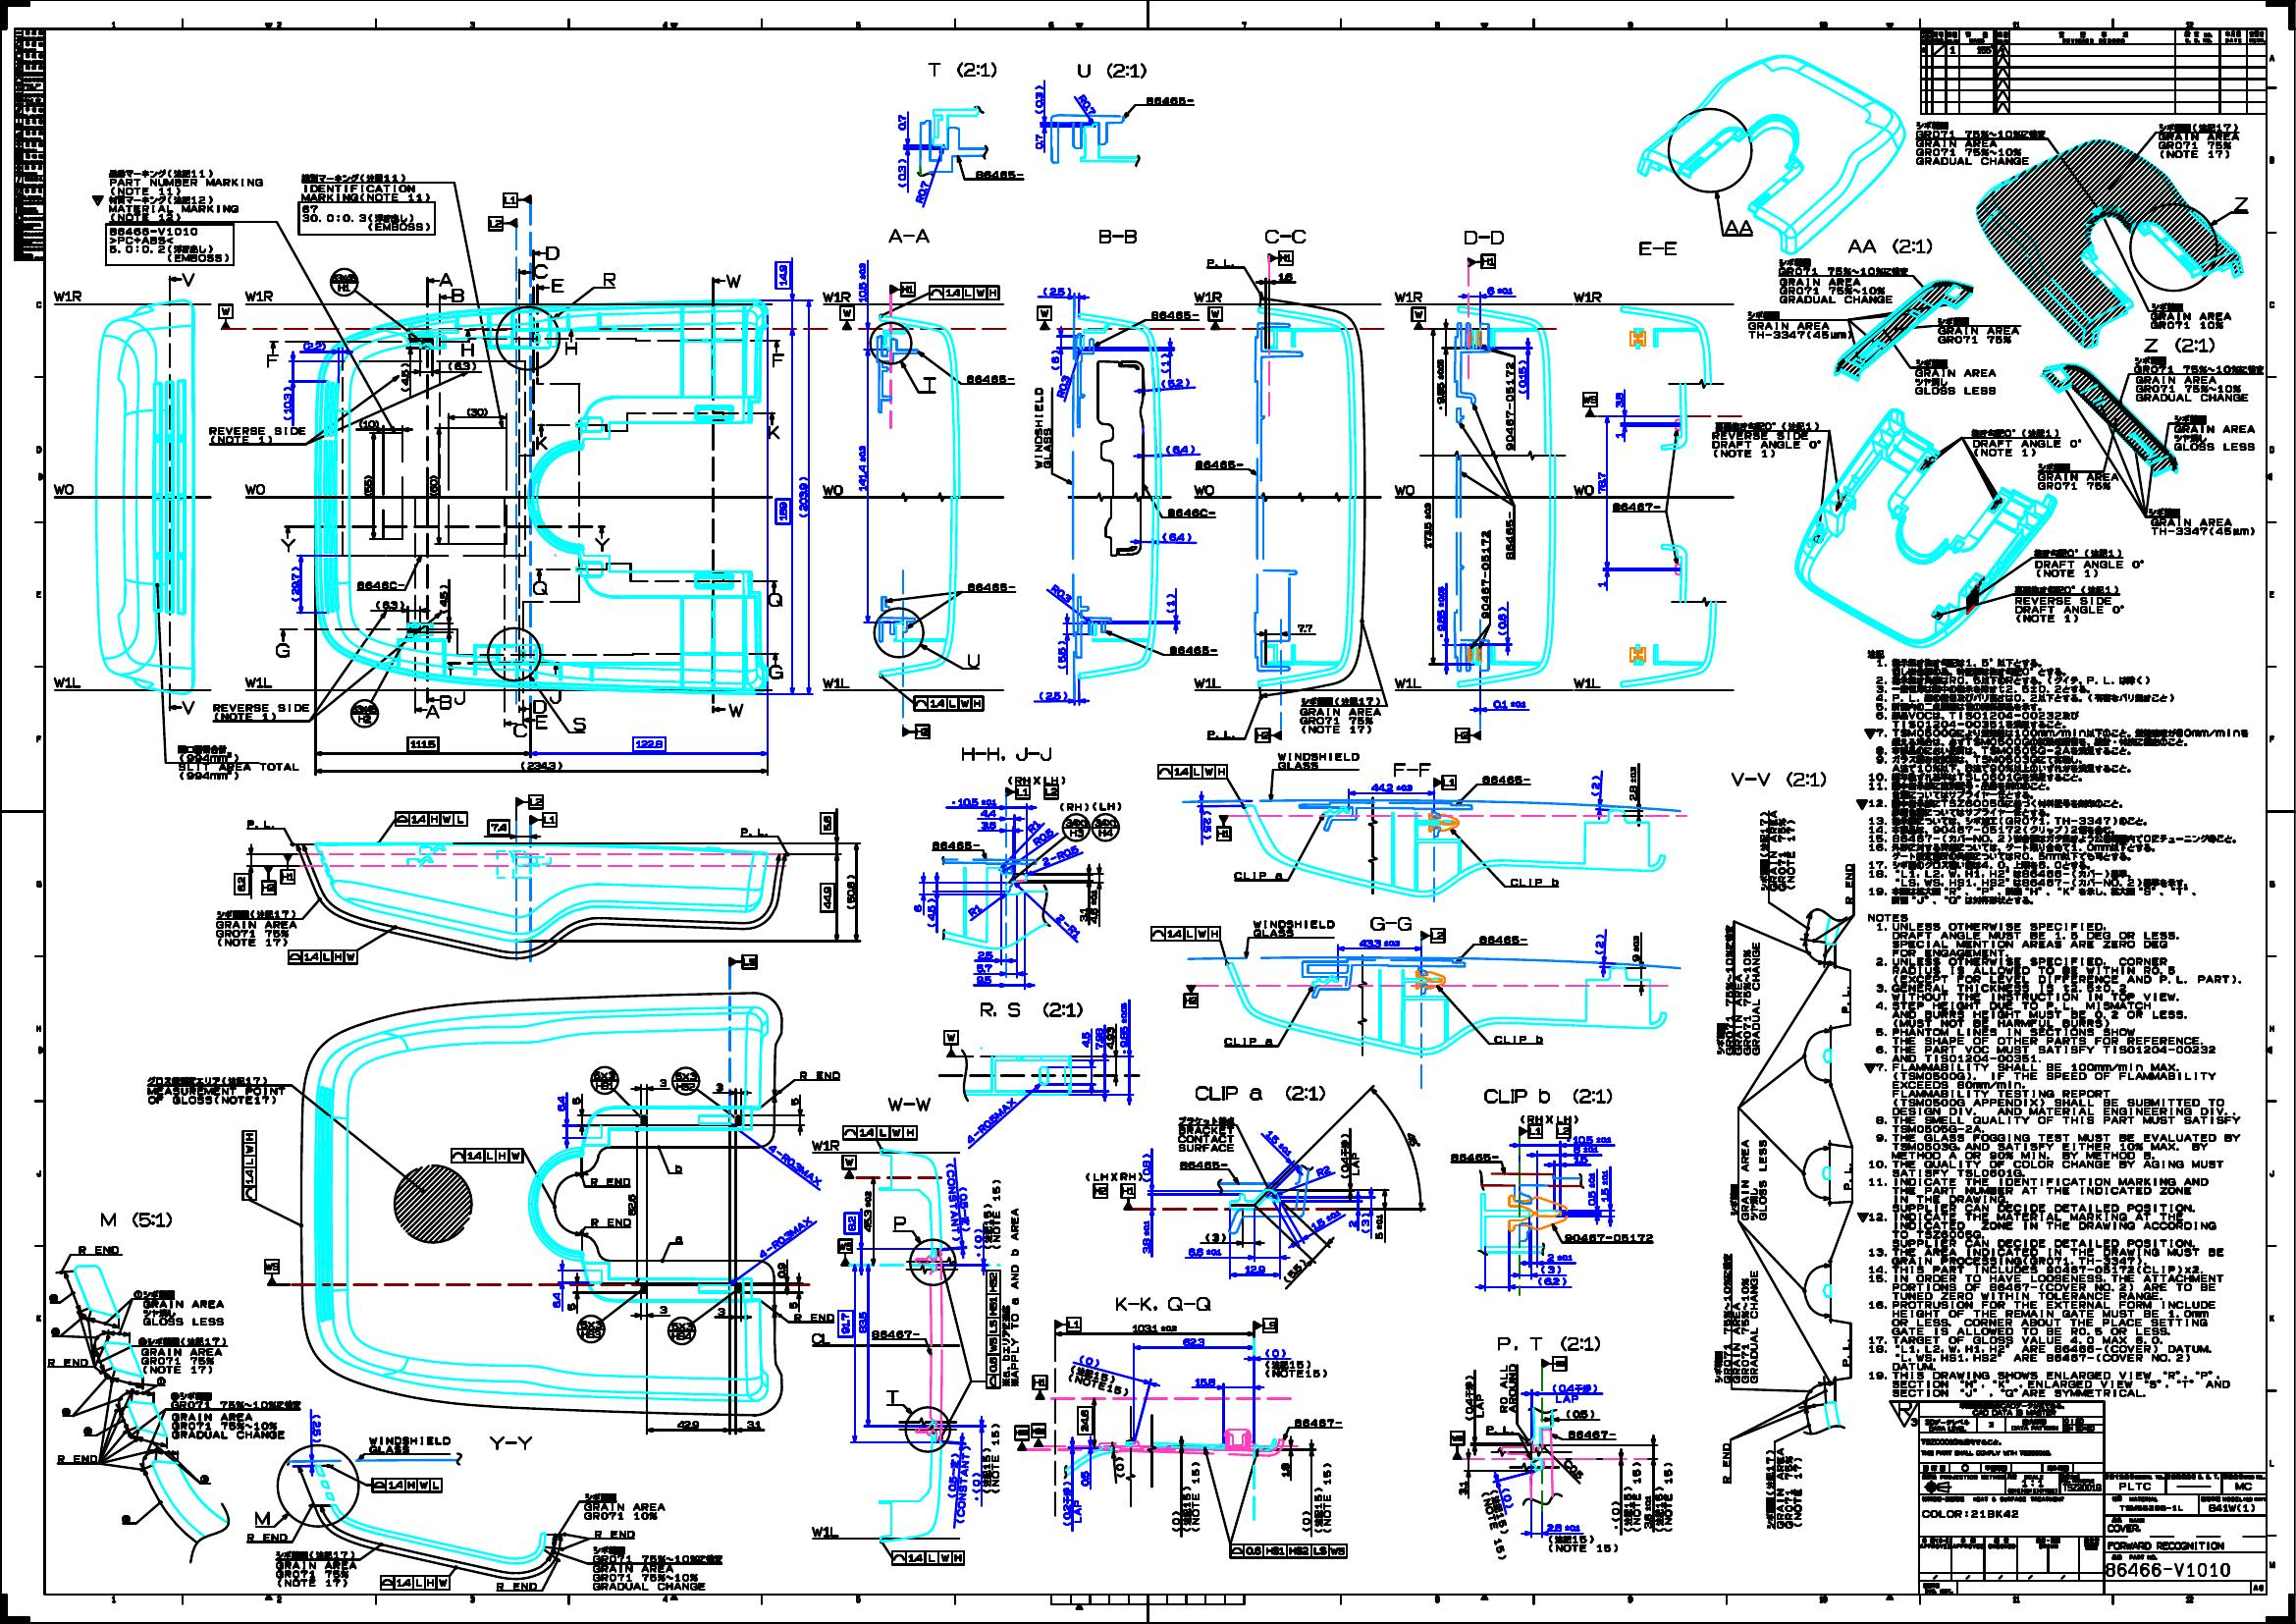anntotation_text: (1855, 909, 2243, 1401), (1853, 647, 2252, 907), (169, 1388, 304, 1441), (1715, 919, 1764, 1058), (2133, 355, 2264, 406), (1711, 1250, 1760, 1385), (1776, 258, 1910, 306), (590, 1545, 724, 1592), (1915, 120, 2047, 165), (104, 223, 235, 265), (176, 743, 299, 782), (2013, 584, 2126, 626), (299, 202, 434, 236), (107, 167, 265, 195), (144, 1074, 285, 1106), (1709, 420, 1823, 459), (88, 193, 242, 221), (297, 172, 430, 202), (135, 1336, 228, 1376), (134, 1287, 225, 1327), (1971, 425, 2083, 457), (1729, 1137, 1771, 1222), (1764, 1445, 1804, 1531), (2157, 121, 2247, 160), (1001, 1207, 1021, 1387), (1748, 308, 1852, 341), (2173, 413, 2256, 453), (213, 907, 295, 947), (2032, 548, 2143, 578), (1915, 357, 1996, 397), (1758, 807, 1797, 891), (2147, 508, 2256, 538), (274, 1550, 357, 1589), (1300, 696, 1381, 735), (1481, 1084, 1614, 1107), (1936, 315, 2020, 346), (581, 1489, 666, 1520), (1193, 1084, 1326, 1104), (2034, 460, 2119, 490), (975, 998, 1082, 1021), (1730, 768, 1829, 793), (2148, 302, 2233, 330), (1084, 1171, 1142, 1211), (1175, 1114, 1235, 1153), (1493, 1334, 1602, 1353), (947, 1445, 971, 1526), (206, 425, 307, 445), (947, 1162, 971, 1241), (209, 701, 309, 721), (957, 743, 1056, 763), (984, 1269, 1000, 1388), (1031, 387, 1052, 471), (1275, 749, 1360, 770), (1112, 1294, 1212, 1311), (980, 1422, 1003, 1496), (1651, 1461, 1674, 1534), (367, 1434, 453, 1454), (1230, 1543, 1347, 1557), (1484, 1489, 1507, 1559), (1005, 773, 1065, 800), (924, 60, 998, 81), (1312, 1461, 1333, 1534), (1846, 237, 1932, 255), (1518, 1114, 1579, 1139), (1251, 917, 1335, 935), (982, 1176, 1001, 1251), (98, 1209, 174, 1229), (1182, 1461, 1202, 1534), (1548, 1534, 1621, 1554), (2141, 337, 2219, 355), (1623, 1461, 1643, 1531), (1066, 1371, 1130, 1392), (1075, 62, 1149, 79), (1263, 1359, 1330, 1378), (1059, 801, 1091, 842), (1091, 801, 1123, 842), (1885, 1397, 1922, 1431), (1549, 1380, 1599, 1404), (841, 1125, 917, 1141), (450, 1148, 523, 1164), (371, 1476, 443, 1492), (1477, 529, 1490, 620), (882, 225, 935, 246), (379, 1575, 450, 1591), (1498, 1362, 1518, 1417), (393, 812, 467, 826), (891, 1552, 964, 1566), (1149, 924, 1221, 939), (241, 1128, 255, 1200), (329, 265, 360, 297), (348, 698, 379, 729), (574, 1313, 606, 1345), (1463, 1373, 1484, 1420), (929, 285, 1000, 299), (913, 696, 982, 710), (1504, 360, 1514, 452), (288, 949, 357, 963), (1339, 1132, 1360, 1178), (588, 1065, 620, 1095), (1365, 914, 1416, 932), (666, 1316, 696, 1346), (671, 1065, 701, 1095), (1063, 1480, 1082, 1526), (1635, 237, 1679, 257), (887, 1095, 931, 1114), (1158, 765, 1226, 777), (1460, 227, 1505, 244), (1563, 1232, 1655, 1241), (1391, 758, 1432, 777), (487, 1434, 536, 1450), (1094, 227, 1138, 244), (1263, 227, 1307, 244), (956, 1114, 1026, 1125), (761, 1160, 831, 1171), (750, 1232, 820, 1243), (964, 580, 1015, 592), (1193, 457, 1244, 469), (1491, 1032, 1542, 1044), (1223, 1035, 1274, 1048), (971, 169, 1026, 179), (51, 673, 86, 689), (1723, 218, 1755, 236), (1718, 1441, 1730, 1485), (588, 1214, 632, 1227), (1149, 308, 1200, 318), (1165, 506, 1216, 517), (1611, 499, 1662, 510), (1481, 773, 1532, 784), (1509, 875, 1560, 886), (1477, 933, 1528, 944), (870, 1329, 921, 1339), (1449, 1151, 1500, 1162), (1145, 95, 1195, 105), (1504, 510, 1514, 559), (929, 840, 978, 851), (798, 1069, 840, 1081), (1293, 1417, 1342, 1427), (1179, 1158, 1228, 1169), (53, 288, 84, 304), (242, 673, 274, 689), (502, 192, 531, 209), (1054, 1316, 1082, 1334), (1843, 861, 1853, 907), (244, 288, 274, 304), (1467, 253, 1497, 269), (1570, 290, 1604, 304), (244, 1531, 288, 1541), (494, 1580, 538, 1591), (46, 1357, 90, 1367), (1253, 1316, 1279, 1334), (488, 216, 516, 232), (1393, 290, 1425, 304), (529, 810, 557, 826), (729, 953, 757, 968), (966, 373, 1015, 381), (1168, 643, 1217, 652), (588, 1174, 629, 1185), (820, 677, 850, 691), (1193, 675, 1223, 689), (1570, 675, 1600, 689), (810, 1137, 840, 1151), (903, 724, 929, 740), (1455, 728, 1481, 743), (1419, 926, 1446, 942), (264, 1258, 279, 1285), (74, 1244, 121, 1253), (1031, 1374, 1047, 1401), (1541, 1355, 1567, 1371), (808, 1526, 841, 1538), (592, 1529, 638, 1538), (1193, 290, 1221, 304), (262, 866, 276, 895), (218, 304, 234, 329), (1182, 984, 1198, 1009), (1216, 816, 1231, 840), (281, 852, 293, 884), (1014, 1425, 1029, 1450), (889, 281, 915, 295), (1256, 728, 1282, 742), (515, 794, 541, 808), (792, 1311, 834, 1320), (54, 1454, 97, 1462), (822, 290, 852, 302), (1393, 677, 1423, 689), (244, 817, 274, 830), (1451, 1429, 1463, 1459), (1484, 1422, 1514, 1434), (1268, 250, 1291, 265), (1433, 773, 1456, 789), (1233, 870, 1284, 877), (242, 482, 267, 496), (820, 482, 845, 496), (1583, 392, 1597, 417), (838, 1237, 850, 1265), (841, 1153, 856, 1178), (1031, 1422, 1045, 1446), (1567, 1431, 1616, 1438), (726, 701, 745, 719), (766, 591, 783, 610), (2233, 195, 2252, 213), (1205, 257, 1237, 267), (1839, 984, 1850, 1016), (740, 824, 766, 837), (945, 1030, 957, 1056), (51, 482, 74, 496), (840, 306, 854, 329), (1036, 306, 1051, 329), (1393, 483, 1416, 497), (450, 286, 467, 304), (532, 262, 550, 279), (724, 272, 741, 290), (531, 698, 548, 715), (571, 715, 588, 733), (531, 580, 548, 598), (594, 534, 611, 552), (921, 374, 938, 392), (278, 538, 297, 554), (891, 1213, 906, 1232), (253, 1510, 272, 1526), (1570, 483, 1595, 496), (1841, 1336, 1850, 1369), (1843, 1160, 1852, 1193), (1193, 483, 1216, 496), (1412, 308, 1425, 330), (543, 246, 560, 262), (274, 642, 290, 659), (437, 692, 453, 710), (453, 689, 469, 707), (768, 663, 783, 680), (964, 652, 982, 668), (1207, 729, 1237, 738), (1209, 308, 1221, 329), (181, 271, 197, 286), (437, 271, 453, 286), (423, 705, 439, 721), (548, 691, 564, 707), (534, 434, 550, 450), (884, 1388, 899, 1404), (179, 700, 197, 714), (812, 1332, 831, 1345), (265, 352, 279, 367), (550, 278, 566, 292), (603, 271, 617, 286), (771, 352, 785, 367), (564, 341, 578, 357), (460, 341, 474, 357), (513, 722, 527, 738), (534, 714, 548, 729), (768, 424, 780, 439), (673, 1162, 683, 1174), (673, 1234, 682, 1243)
dimension_text: (1117, 1000, 1130, 1053), (1625, 763, 1641, 801), (632, 735, 666, 752), (516, 759, 564, 772), (1131, 1322, 1179, 1334), (1370, 780, 1416, 793), (1435, 585, 1446, 638), (1435, 359, 1446, 411), (796, 475, 808, 518), (861, 1188, 873, 1232), (355, 580, 404, 591), (856, 260, 868, 302), (857, 445, 868, 492), (1356, 939, 1404, 949), (820, 882, 836, 914), (773, 262, 791, 290), (1036, 851, 1082, 861), (281, 383, 293, 422), (1516, 357, 1528, 395), (408, 736, 437, 752), (1491, 696, 1528, 708), (947, 798, 998, 807), (1423, 501, 1432, 550), (1049, 919, 1084, 932), (1309, 1213, 1344, 1225), (1585, 1171, 1597, 1206), (290, 564, 300, 605), (1077, 1404, 1091, 1434), (775, 497, 791, 524), (1495, 605, 1507, 638), (1260, 1135, 1298, 1146), (1544, 1522, 1583, 1533), (896, 156, 908, 188), (1042, 285, 1073, 297), (845, 874, 856, 910), (1188, 1246, 1224, 1257), (838, 1309, 852, 1336), (1140, 1218, 1151, 1253), (399, 362, 411, 392), (1484, 283, 1514, 295), (1609, 1501, 1621, 1531), (488, 819, 511, 835), (971, 1227, 982, 1260), (1563, 1408, 1597, 1418), (915, 179, 929, 204), (1072, 98, 1100, 111), (1029, 831, 1058, 844), (374, 599, 406, 610), (1033, 83, 1043, 114), (1056, 638, 1066, 670), (1202, 808, 1212, 840), (311, 1411, 321, 1443), (843, 1211, 859, 1232), (971, 1471, 982, 1503), (1089, 888, 1098, 924), (1300, 1508, 1312, 1534), (437, 584, 448, 613), (1161, 531, 1191, 541), (1630, 933, 1641, 963), (926, 898, 936, 928), (1140, 1153, 1151, 1183), (1279, 1265, 1309, 1276), (234, 874, 249, 893), (448, 360, 476, 371), (820, 812, 834, 833), (1374, 1213, 1384, 1241), (1600, 1169, 1609, 1202), (1572, 1135, 1613, 1142), (857, 1311, 870, 1334), (1560, 1464, 1586, 1475), (1038, 691, 1068, 700), (1159, 378, 1189, 387), (1165, 445, 1195, 453), (1537, 1276, 1567, 1285), (1051, 381, 1075, 392), (675, 1418, 699, 1429), (1263, 1348, 1288, 1359), (1205, 1230, 1226, 1243), (1093, 1026, 1103, 1051), (1105, 1025, 1116, 1049), (466, 406, 488, 417), (1049, 587, 1072, 598), (1049, 348, 1059, 371), (1165, 592, 1175, 615), (1590, 775, 1600, 798), (1116, 1455, 1126, 1478), (1170, 1510, 1180, 1533), (1195, 1376, 1217, 1387), (1182, 1336, 1205, 1346), (1244, 1264, 1267, 1274), (550, 1290, 562, 1309), (300, 341, 327, 350), (1597, 469, 1606, 496), (362, 475, 372, 496), (1159, 353, 1170, 374), (1079, 1355, 1100, 1366), (1360, 1213, 1370, 1234), (1504, 1487, 1514, 1508), (1595, 932, 1604, 956), (1075, 905, 1087, 923), (964, 905, 982, 917), (627, 1192, 636, 1216), (896, 112, 906, 132), (1079, 1469, 1089, 1489), (1080, 1030, 1091, 1049), (429, 475, 437, 496), (1033, 132, 1042, 153), (1277, 271, 1295, 281), (1024, 821, 1042, 831), (555, 1095, 566, 1113), (1279, 1461, 1289, 1478), (1546, 1253, 1572, 1260), (1572, 1146, 1599, 1153), (776, 1260, 785, 1280), (1541, 1265, 1560, 1274), (745, 1418, 761, 1429), (1316, 1165, 1332, 1176), (1407, 1134, 1418, 1149), (357, 420, 379, 427), (1614, 390, 1623, 408), (975, 963, 993, 972), (975, 974, 993, 982), (978, 808, 996, 817), (1572, 1155, 1590, 1164), (1296, 624, 1312, 633), (980, 821, 996, 830), (1458, 1480, 1467, 1496), (912, 902, 922, 914), (119, 1513, 132, 1524), (49, 1325, 61, 1336), (713, 1081, 724, 1093), (975, 951, 993, 958), (199, 1473, 209, 1483), (789, 1095, 799, 1106), (81, 1425, 93, 1434), (569, 1095, 581, 1104), (61, 1406, 70, 1417), (156, 1374, 165, 1385), (47, 1294, 58, 1302), (566, 1301, 574, 1311), (717, 1306, 726, 1316), (787, 1301, 798, 1309), (1347, 1218, 1356, 1229), (1597, 580, 1606, 589), (659, 1304, 668, 1313), (661, 1077, 669, 1086)
object: (297, 990, 783, 1417), (311, 297, 768, 692), (1792, 406, 2057, 649), (292, 840, 787, 960), (1975, 137, 2245, 348), (1635, 53, 1904, 255), (1254, 297, 1367, 692), (1223, 956, 1667, 1055), (1238, 800, 1667, 900), (72, 1262, 227, 1540), (1451, 306, 1556, 685), (95, 299, 195, 696), (1618, 304, 1716, 691), (1072, 313, 1159, 682), (293, 1462, 560, 1580), (878, 313, 963, 677), (1802, 910, 1855, 1427), (875, 1146, 943, 1540), (2038, 362, 2180, 478), (1834, 278, 1975, 381), (1065, 1427, 1286, 1480), (940, 856, 1049, 951), (1479, 1171, 1583, 1253), (1217, 1164, 1309, 1234), (1495, 1406, 1555, 1503), (963, 1051, 1073, 1097), (917, 107, 987, 176), (1049, 114, 1138, 163)
title_block: (1917, 1401, 2268, 1594), (1920, 28, 2266, 114), (14, 28, 44, 260)
